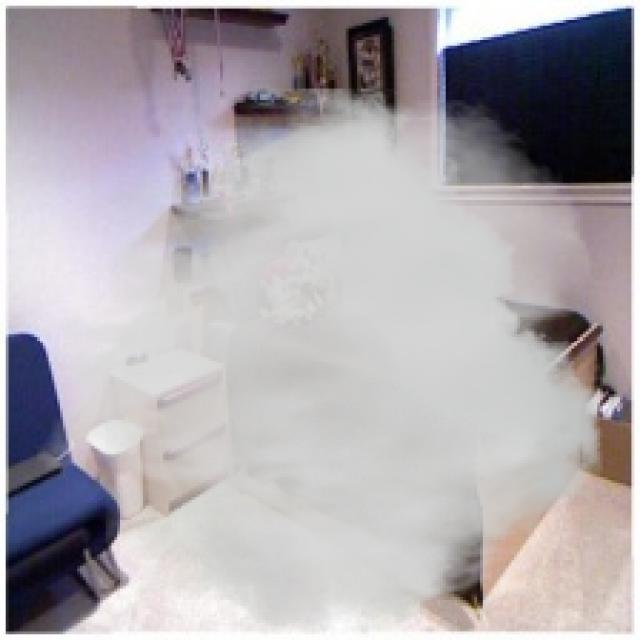smoke: (34, 89, 606, 637)
